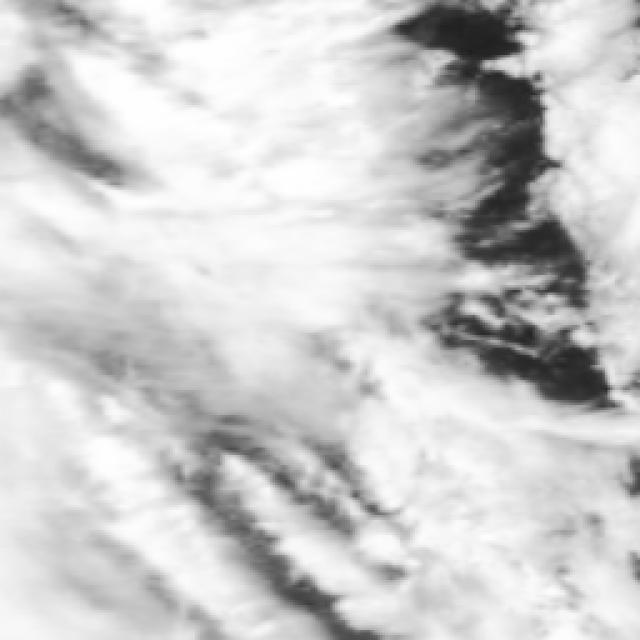CB: (162, 5, 360, 204), (0, 399, 147, 640), (424, 402, 591, 605), (7, 187, 206, 356), (209, 189, 380, 373)
